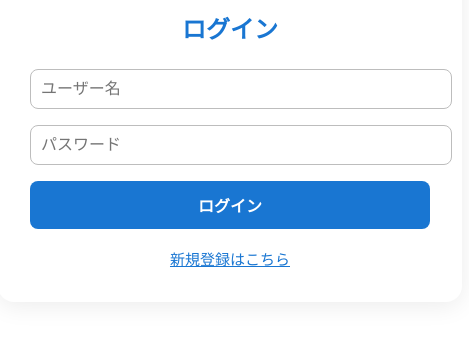
Scenario: Login › ログイン失敗時にエラーメッセージが表示される
This screenshot has width=469, height=362.
Type "user" into the field with placeholder "ユーザー名". click: (241, 89)
box: left=30, top=69, right=452, bottom=109
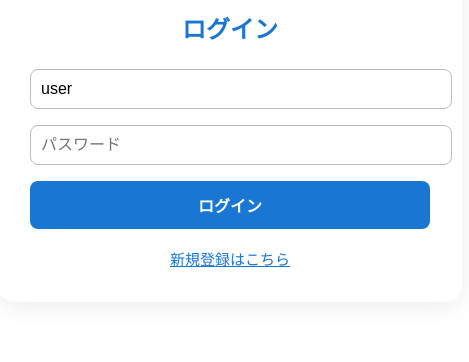
Type "pass" into the password field with placeholder "パスワード". click: (241, 145)
box: left=30, top=125, right=452, bottom=165
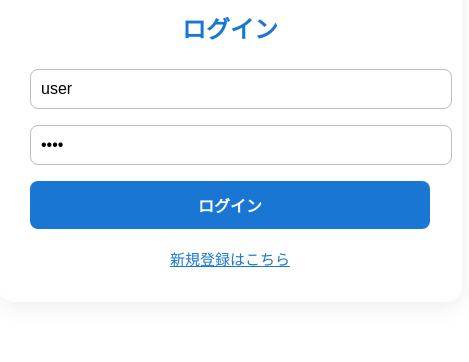
Click the button "ログイン". click: (230, 205)
box: left=30, top=181, right=430, bottom=229
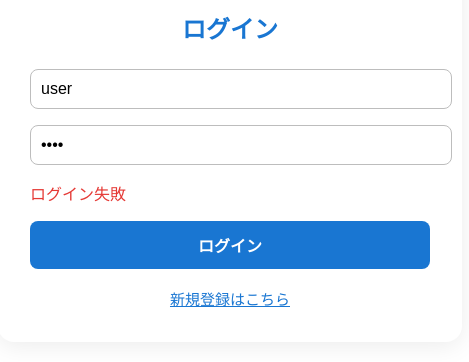
Now the text "ログイン失敗" is shown, box left=30, top=186, right=126, bottom=203
